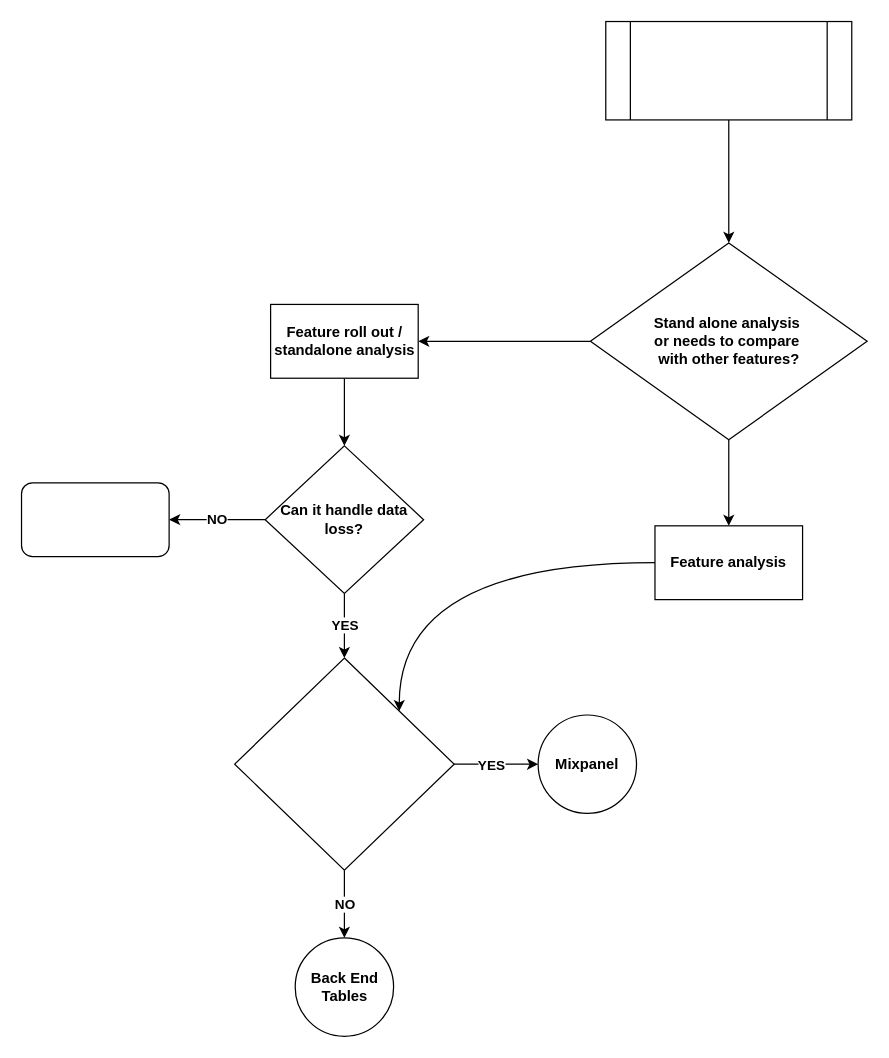
Image size: 889x1058. Some labels were removed from this diagram. The centre of each missing label's shape, as x and y in pixels:
Data Question: point (728, 70)
Do you need historical record/logging of behaviour?: point (343, 763)
Pub Sub: point (94, 519)
